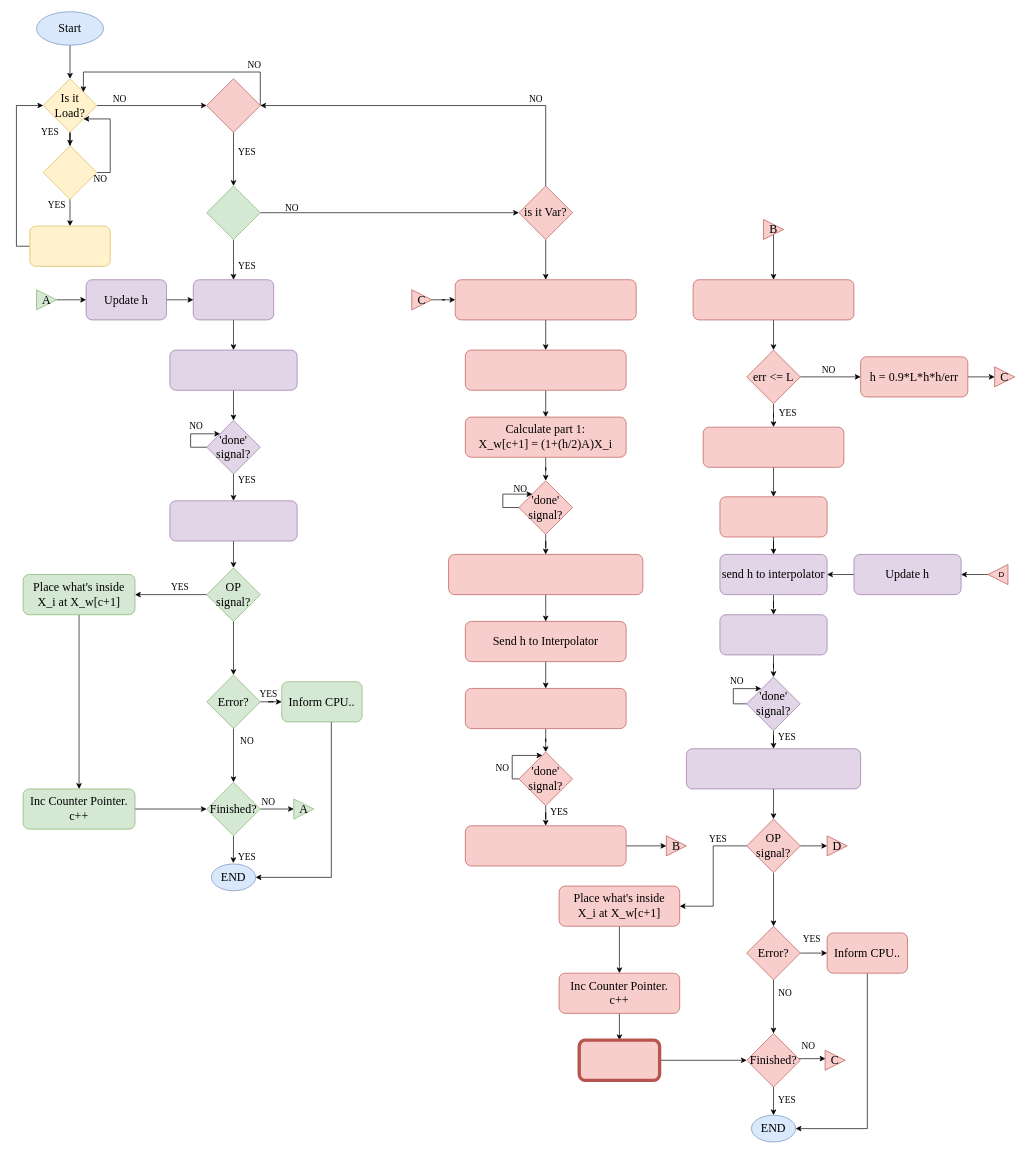
Image size: 1026x1154. Some labels were removed from this diagram. The centre of each missing label's shape, as x and y in pixels:
"calc part 1 X_i = (1+hA)X_w[c]" belongs at (x=773, y=634).
"calc part 2 X_i = part 1 + U_h*B*h" belongs at (x=773, y=768).
"Calc: err = Sum(X_w[c+1] - X_i)" belongs at (x=773, y=299).
"Calculate part 1 X_i = (1 + hA)X" belongs at (x=233, y=369).
"Calculate part 1: X_i = (1+(h)A)X_w[c]" belongs at (x=545, y=708).
"Calculate part 2 and SUM X_i = part 1+U_h*B*h" belongs at (x=233, y=520).
"Calculate part 2 and Sum: X_i = part 1 + U_h *B *h" belongs at (x=545, y=845).
"Calculate part 2 and Sum: X_w[c+1] = part 1 + U_h/2 *B *h/2" belongs at (x=545, y=574).
"is it Fixed?" belongs at (x=233, y=212).
"Is it one of my adds?" belongs at (x=70, y=172).
"Is it Proc?" belongs at (x=233, y=105).
"Place X_w[c+1] --> X_w[c]" belongs at (x=773, y=446).
"Read the value inc. adds. var." belongs at (x=69, y=245).
"RETURN h to h_i" belongs at (x=619, y=1060).
"Send 'h' to Interpolator.." belongs at (x=233, y=299).
"Send h/2 to Interpolator" belongs at (x=545, y=369).
"Update h to be (2h)" belongs at (x=773, y=516).
"X_i = X_w[c] + h/2(X_w[c] , U_c)" belongs at (x=545, y=299).
